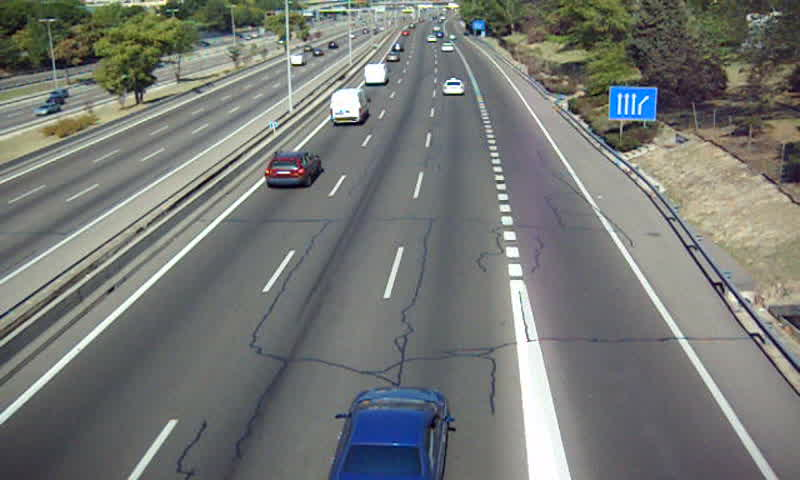car: (330, 388, 447, 480), (265, 151, 321, 186), (442, 79, 465, 95), (385, 52, 400, 64)
van: (331, 88, 368, 124), (362, 64, 387, 85)
